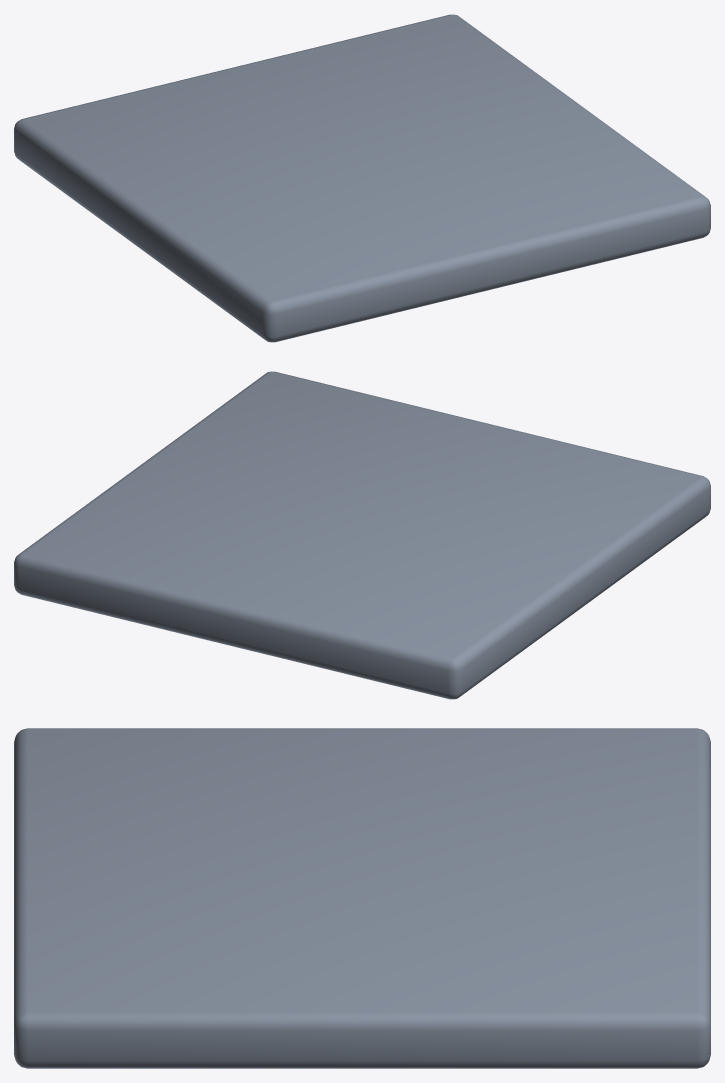
Rendered from floor_tile.glb.
3 renders of one model, top to bottom at view 1: azimuth 30°, elevation 25°; view 2: azimuth 150°, elevation 25°; view 3: azimuth 270°, elevation 25°, orthographic. The views are drawn at different scales.
Visible parts, largest first — view 1: floor_tile; view 2: floor_tile; view 3: floor_tile.
Boxes of the visible parts, x1,y1,x2,y2 form: floor_tile: (14,14,710,342); floor_tile: (14,371,710,699); floor_tile: (14,728,710,1068).
Size of the model in its own units: 4 by 0.35 by 4.
